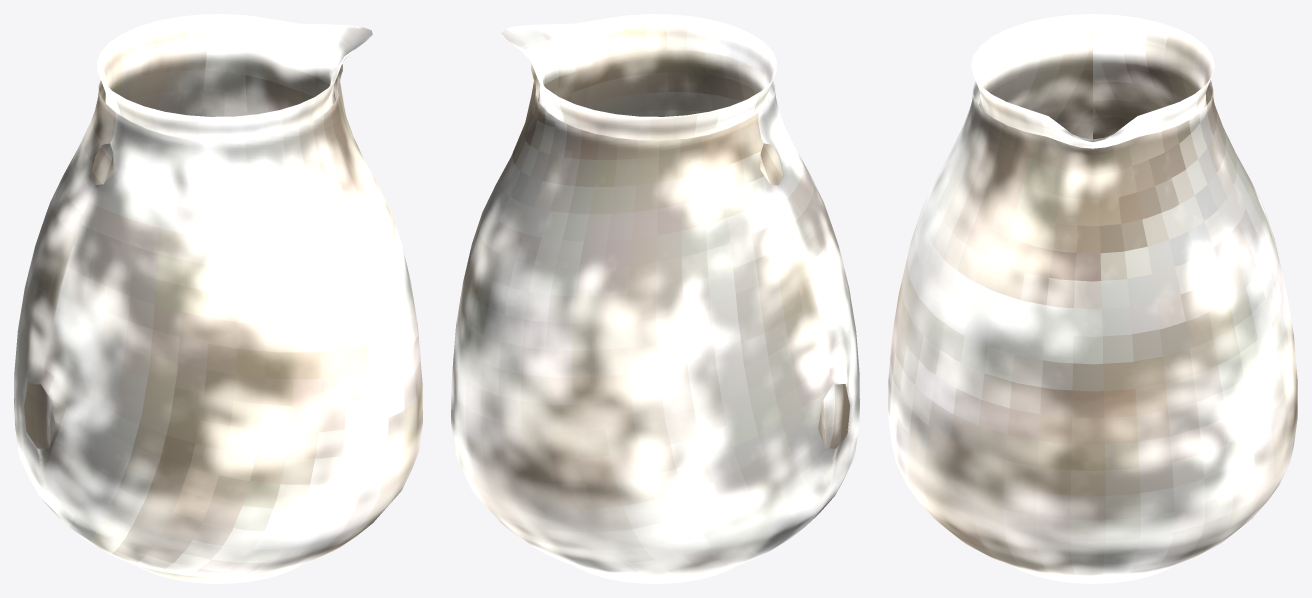
Rendered from caraffa_water.glb.
The picture shows the model from 3 angles, left to right: view 1: azimuth 30°, elevation 25°; view 2: azimuth 150°, elevation 25°; view 3: azimuth 270°, elevation 25°; orthographic projection.
Visible parts, largest first — view 1: Caraffa_Water_Caraffa_Water_0; view 2: Caraffa_Water_Caraffa_Water_0; view 3: Caraffa_Water_Caraffa_Water_0.
Part boxes in pixels (x1,y1,x2,y2): Caraffa_Water_Caraffa_Water_0: (14, 14, 422, 583); Caraffa_Water_Caraffa_Water_0: (451, 14, 859, 583); Caraffa_Water_Caraffa_Water_0: (888, 14, 1297, 583).
Size of the model in its own units: 0.2242 by 0.285 by 0.222.
1 material, 1 textured.
